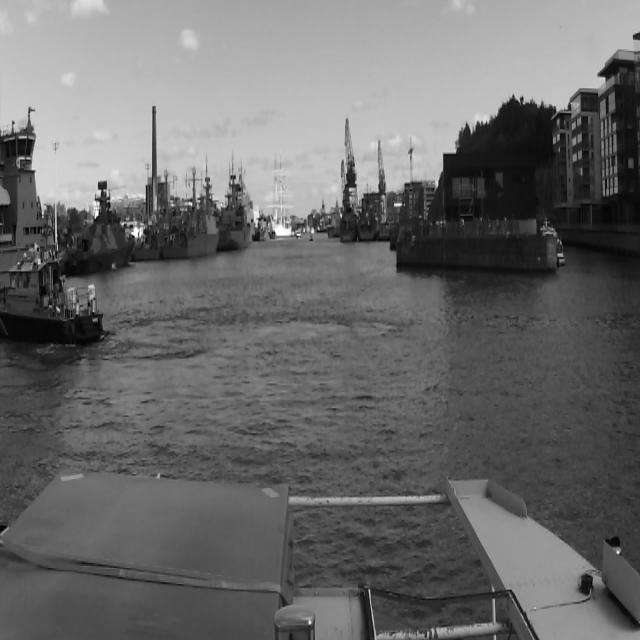ship: (0, 108, 71, 278), (4, 254, 110, 348), (68, 182, 136, 270), (172, 167, 220, 260), (220, 163, 256, 249), (272, 145, 294, 237), (141, 201, 177, 257), (360, 195, 380, 241), (338, 207, 358, 239), (257, 215, 277, 239)
